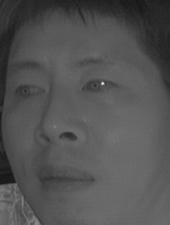eye: (82, 73, 121, 103), (10, 81, 47, 105)
mouth: (33, 160, 97, 199)
